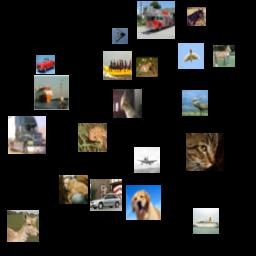airplane: (134, 147, 160, 173), (112, 28, 128, 44)
automobile: (90, 179, 122, 211), (36, 55, 55, 74)
bird: (113, 89, 142, 118), (178, 43, 204, 69)
cat: (186, 133, 224, 171)
deer: (7, 210, 39, 242), (182, 90, 208, 116), (136, 55, 158, 77)
dog: (126, 185, 161, 220), (59, 175, 88, 204)
frog: (78, 123, 107, 152)
ship: (34, 75, 69, 110), (103, 51, 132, 80), (193, 208, 219, 234)
truck: (8, 116, 46, 154), (137, 1, 175, 39)
